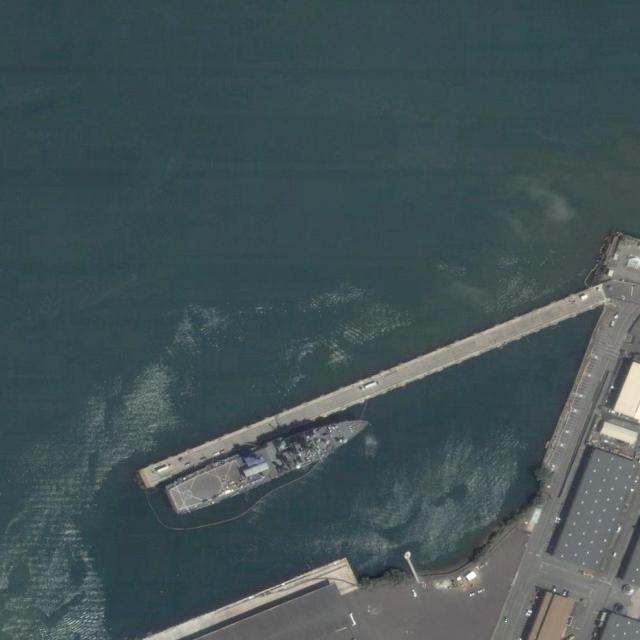Dock: (137, 283, 610, 488)
Landing: (162, 401, 376, 522)
